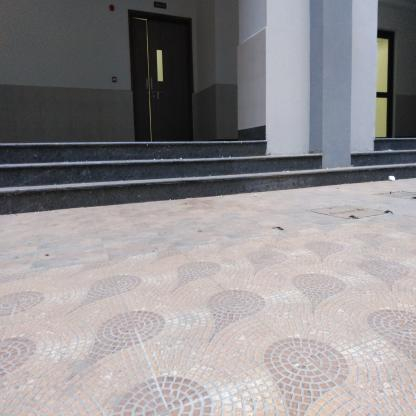stairs: (7, 139, 265, 205)
